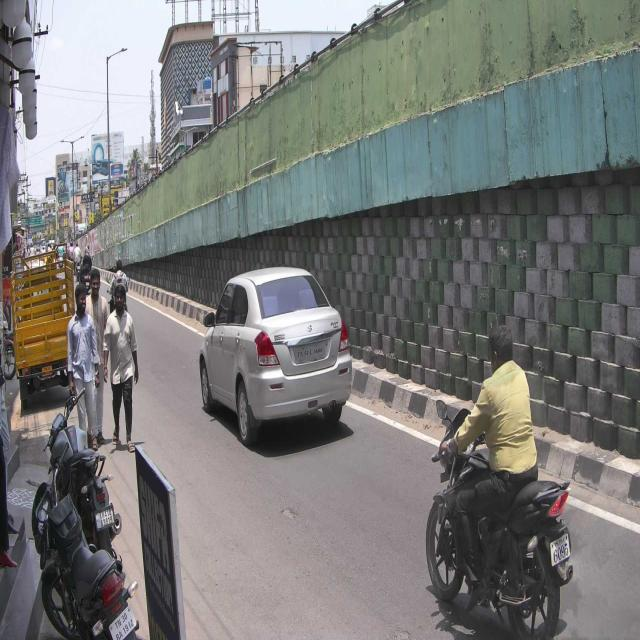single_rider: (425, 322, 574, 640)
